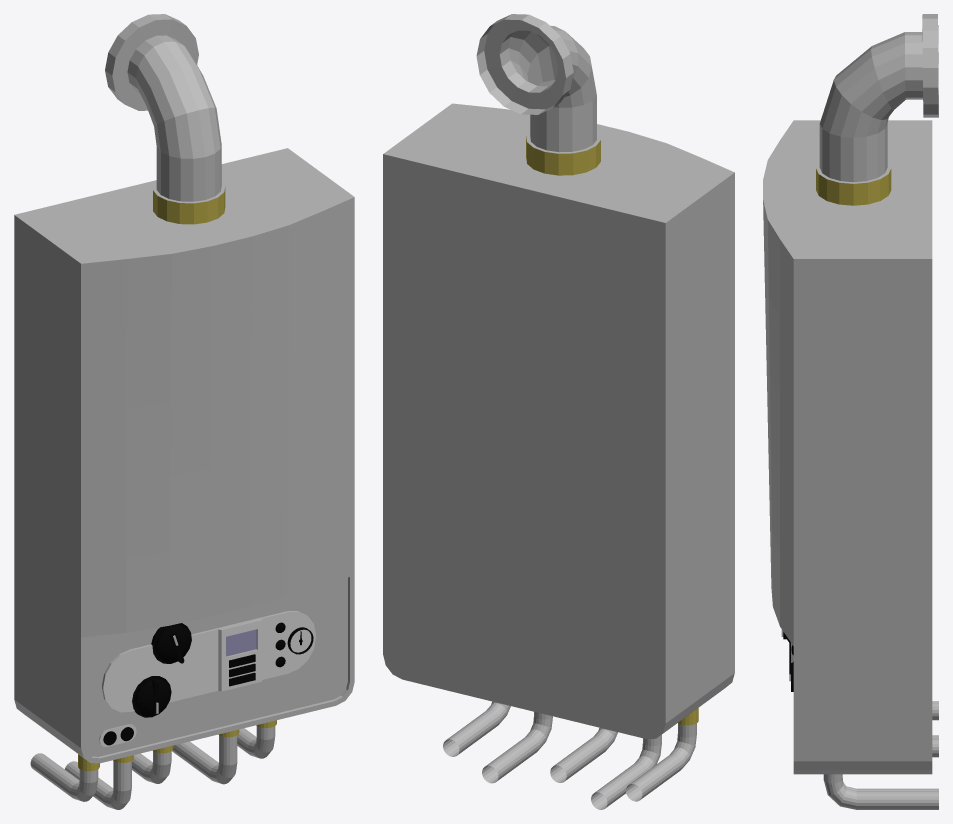
Rendered from _oiler.fbx.
3 views of the same model, side by side, from view 1: azimuth 30°, elevation 25°; view 2: azimuth 150°, elevation 25°; view 3: azimuth 270°, elevation 25° (orthographic). The views are drawn at different scales.
Visible parts, largest first — view 1: Cylinder.038; view 2: Cylinder.038; view 3: Cylinder.038.
Part boxes in pixels (box(x1,y1,x2,y2)): Cylinder.038: box(14, 14, 354, 809); Cylinder.038: box(383, 14, 734, 809); Cylinder.038: box(763, 14, 938, 809).
Size of the model in its own units: 63.27 by 165 by 33.97.
